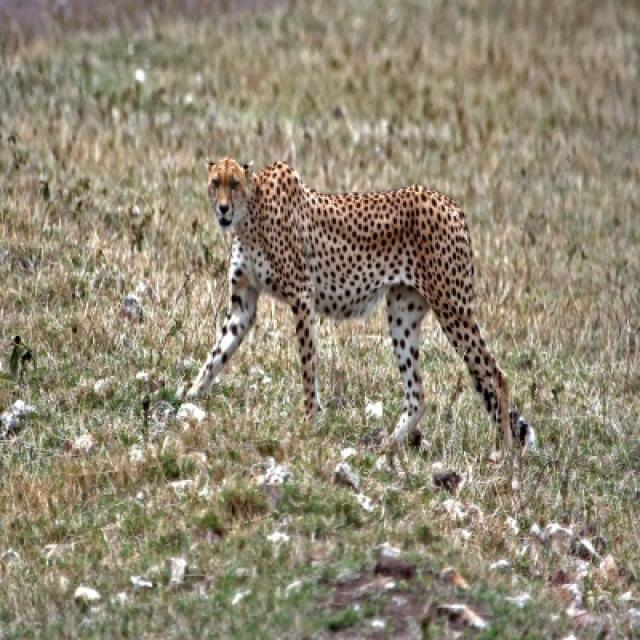Cheetah: (189, 157, 534, 459)
